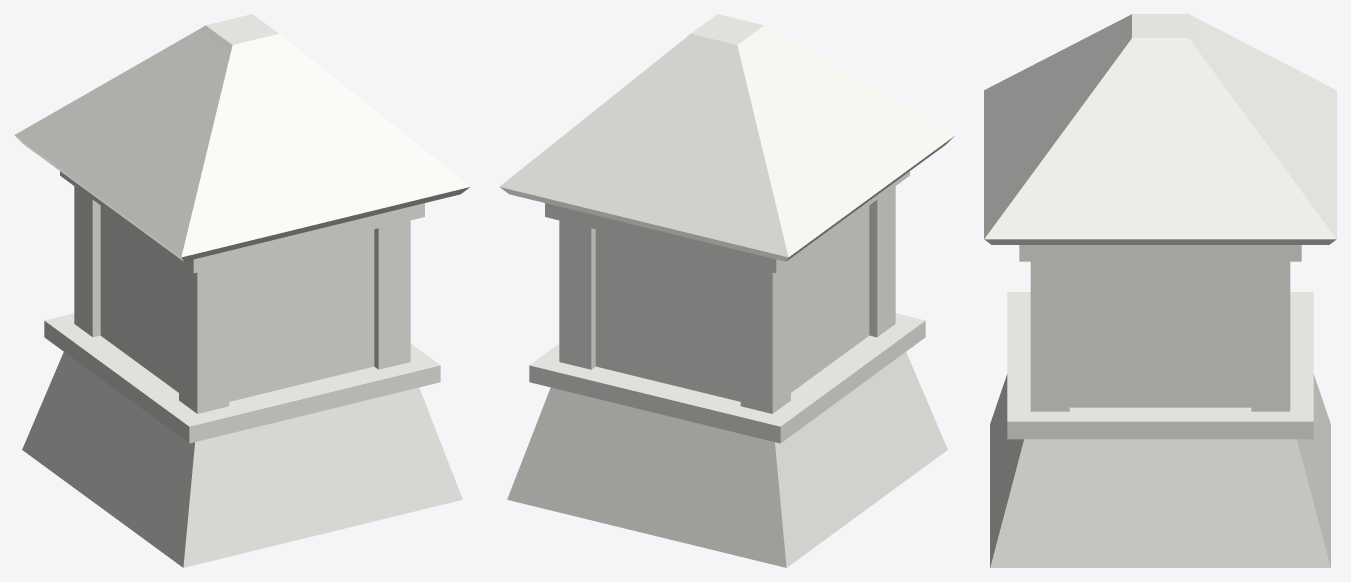
Rendered from Cupola_18 inch Gulfport.obj.
The picture shows the model from 3 angles, left to right: view 1: azimuth 30°, elevation 25°; view 2: azimuth 150°, elevation 25°; view 3: azimuth 270°, elevation 25°; orthographic projection. The views are drawn at different scales.
Visible parts, largest first — view 1: Wood, Shingles, Inset; view 2: Wood, Shingles, Inset; view 3: Wood, Shingles, Inset.
Boxes of the visible parts, <box> form: Wood: <box>15,14,469,567</box>; Shingles: <box>14,29,470,257</box>; Inset: <box>100,206,374,401</box>; Wood: <box>500,14,954,567</box>; Shingles: <box>499,29,955,257</box>; Inset: <box>595,206,869,401</box>; Wood: <box>984,14,1336,567</box>; Shingles: <box>984,17,1336,239</box>; Inset: <box>1069,261,1251,407</box>.
Bounding box in the file's own units: 0.4777 × 0.7024 × 0.4777.
